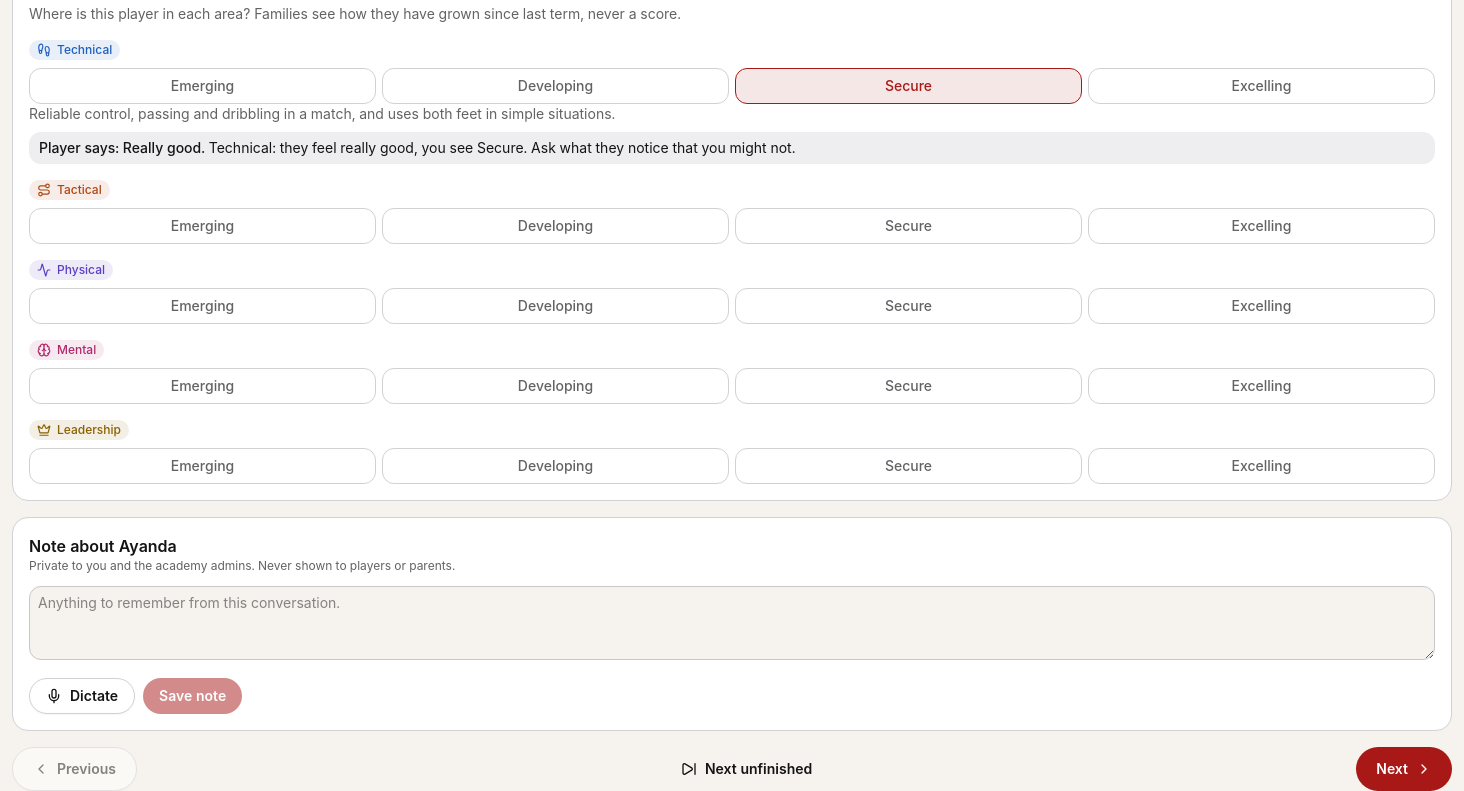
Scenario: SquadReview › starts on the first child and steps with Next and Previous
(page scrolled)
Expected: the button "Previous" is disabled, x1=12 y1=747 x2=137 y2=790
Click the button "Next": (1404, 769) x1=1356 y1=747 x2=1452 y2=790
(page scrolled)
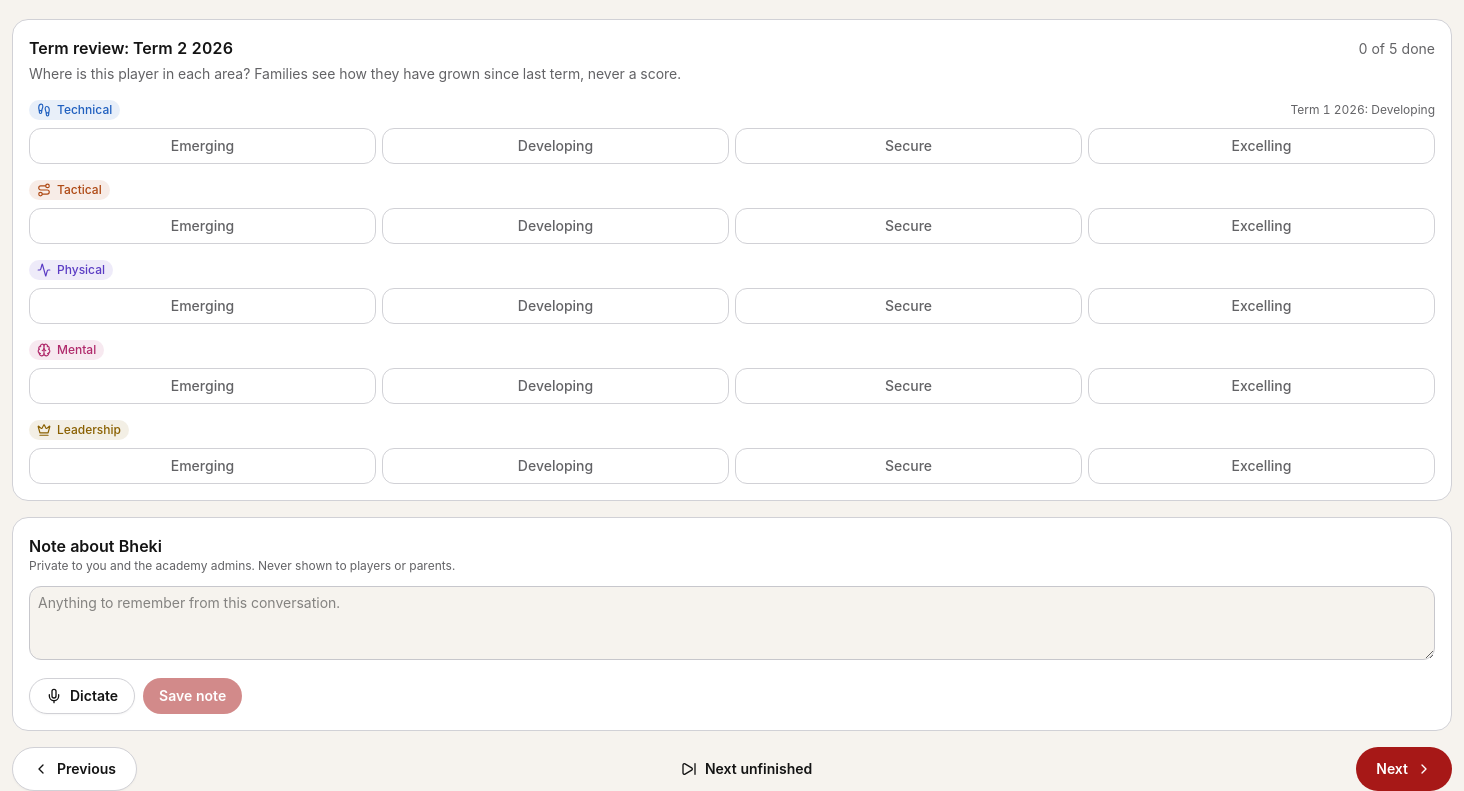
Click the button "Previous": (74, 769) x1=12 y1=747 x2=137 y2=790
(page scrolled)
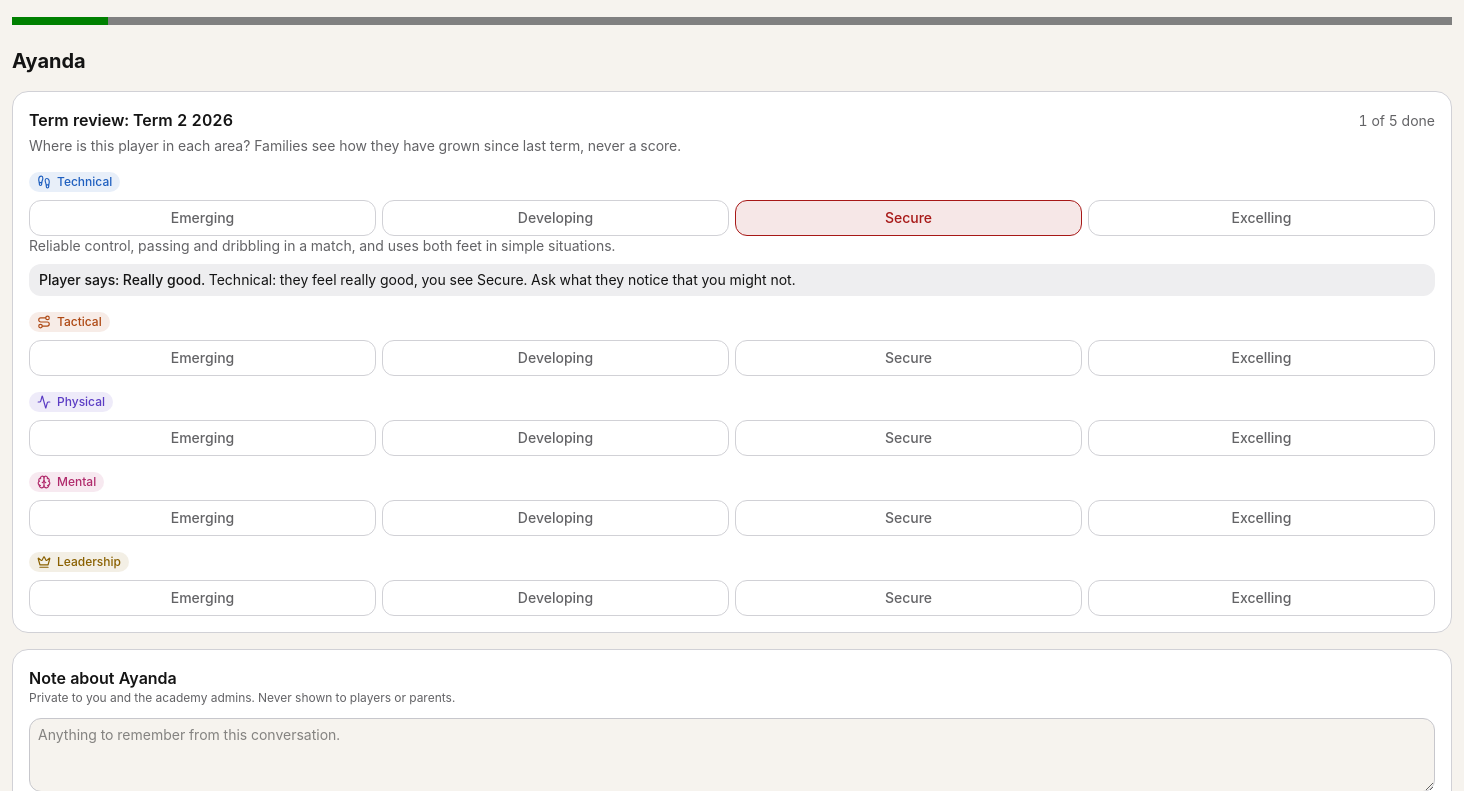
Expected: the heading "Ayanda" is shown, x1=12 y1=49 x2=86 y2=73
